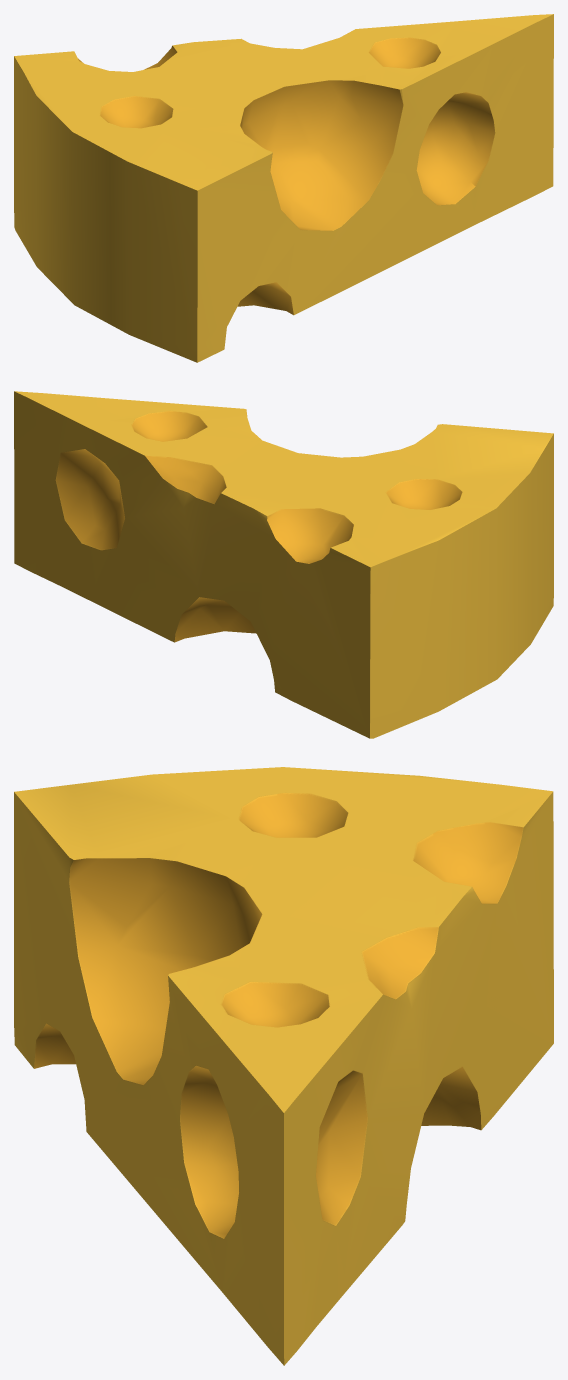
File: Cheese.fbx
3 views of the same model, one above another, from view 1: azimuth 30°, elevation 25°; view 2: azimuth 150°, elevation 25°; view 3: azimuth 270°, elevation 25° (orthographic). The views are drawn at different scales.
Visible parts, largest first — view 1: cheese block; view 2: cheese block; view 3: cheese block.
Part boxes in pixels (x1,y1,x2,y2): cheese block: (14,14,553,362); cheese block: (14,391,553,738); cheese block: (14,767,553,1365).
Bounding box in the file's own units: 20.85 × 7.16 × 13.75.
